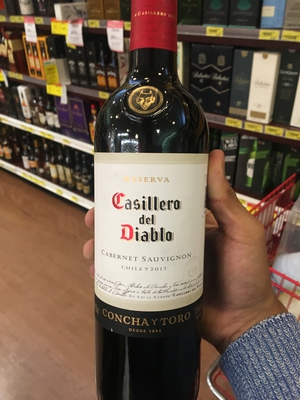casillero del diablo cabernet sauvignon: (93, 8, 211, 400)
